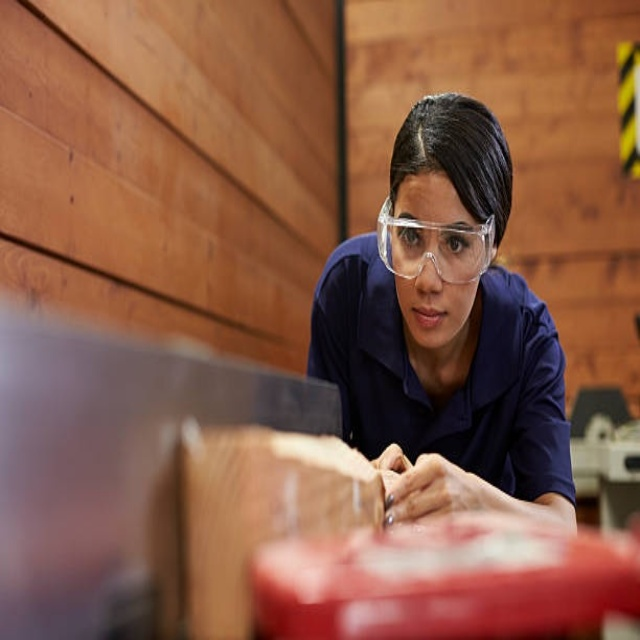Gafas: (377, 197, 496, 283)
Sin_guantes: (374, 450, 485, 530)
Sin_mascara: (405, 295, 456, 344)
